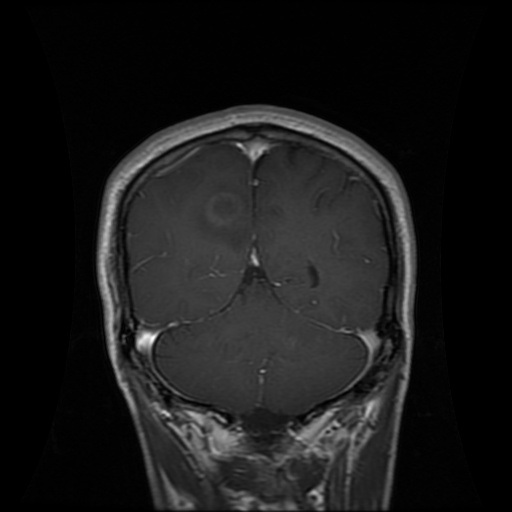glioma: (197, 183, 253, 247)
